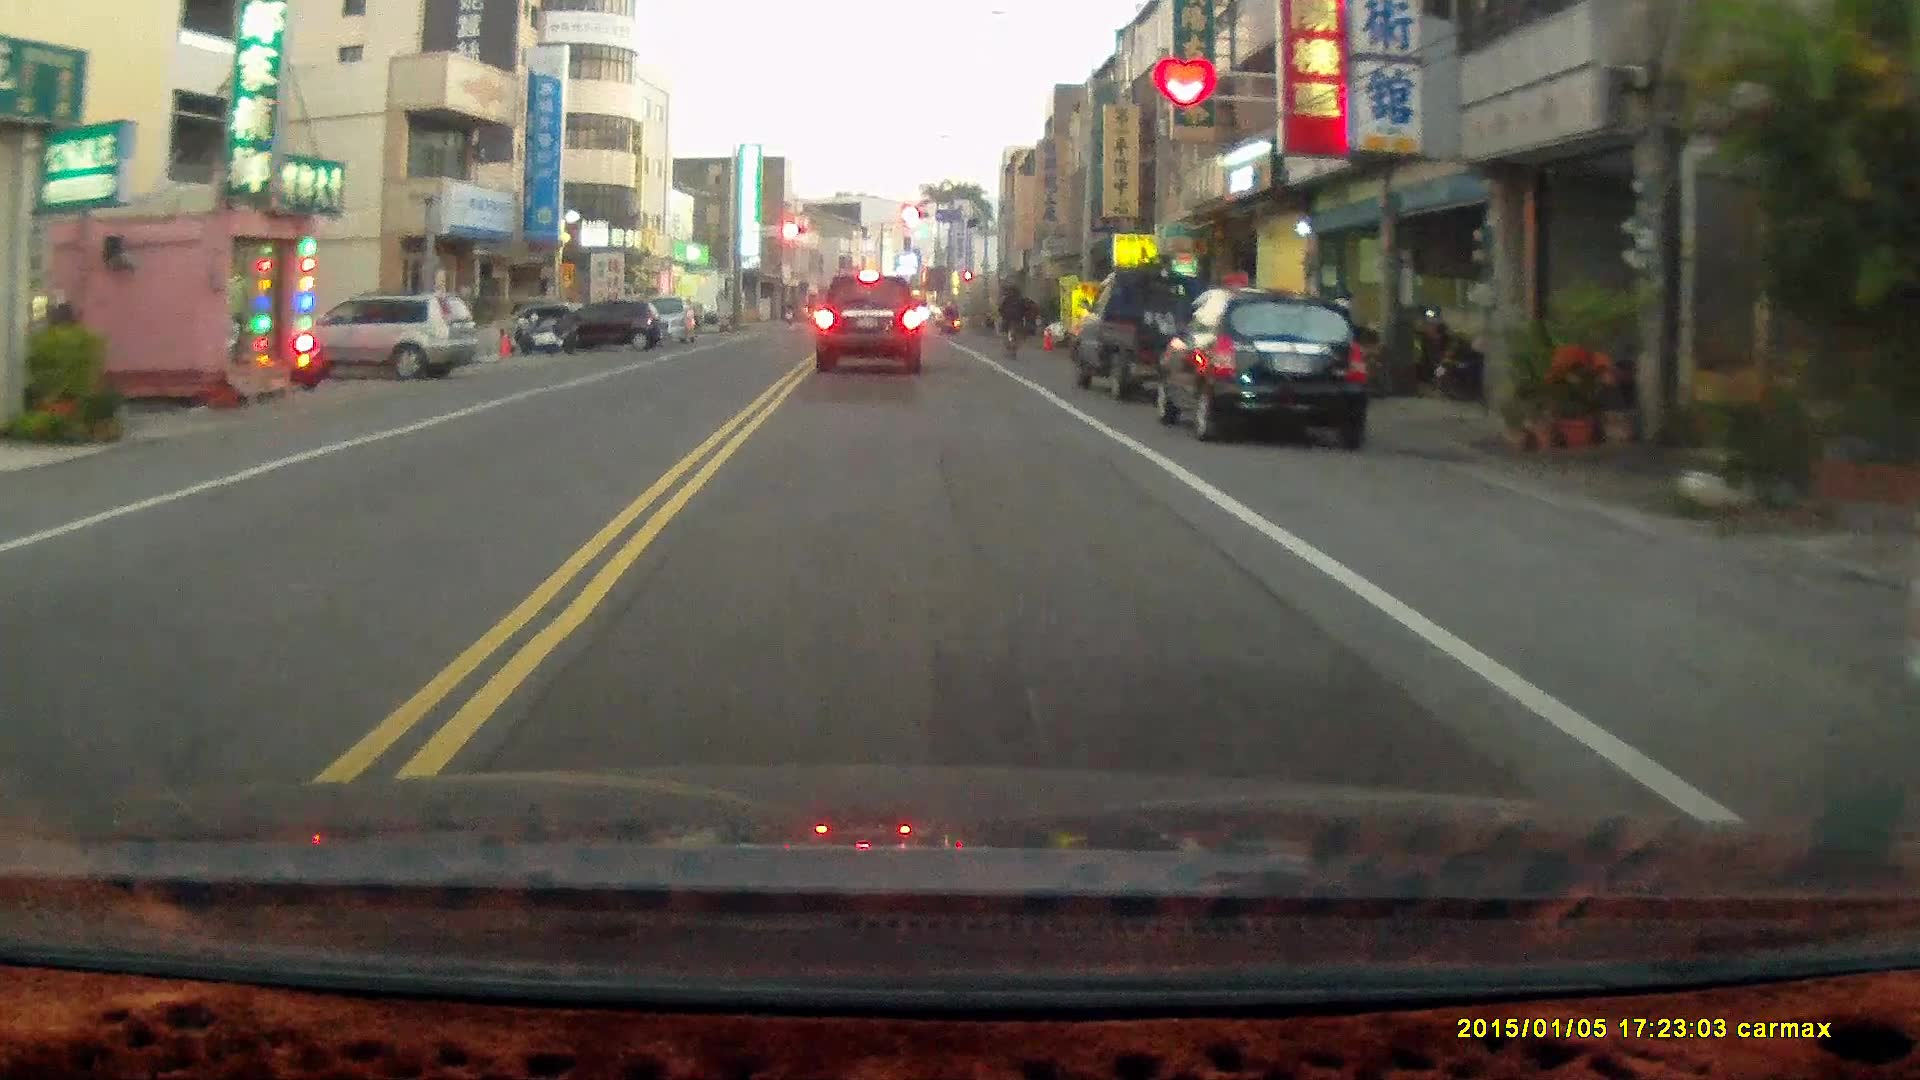rider: (996, 283, 1030, 365)
vehicle: (1165, 288, 1376, 443), (1071, 265, 1257, 400), (278, 292, 481, 379), (815, 275, 925, 376), (533, 297, 660, 354)
